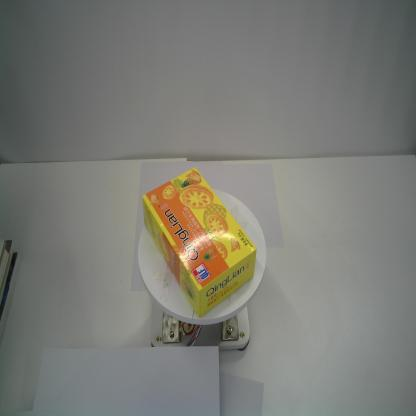Dessert: (140, 166, 258, 319)
